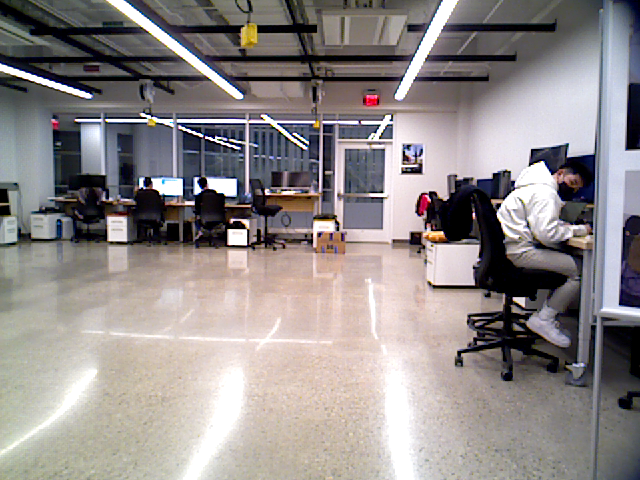painting3: (399, 144, 424, 176)
